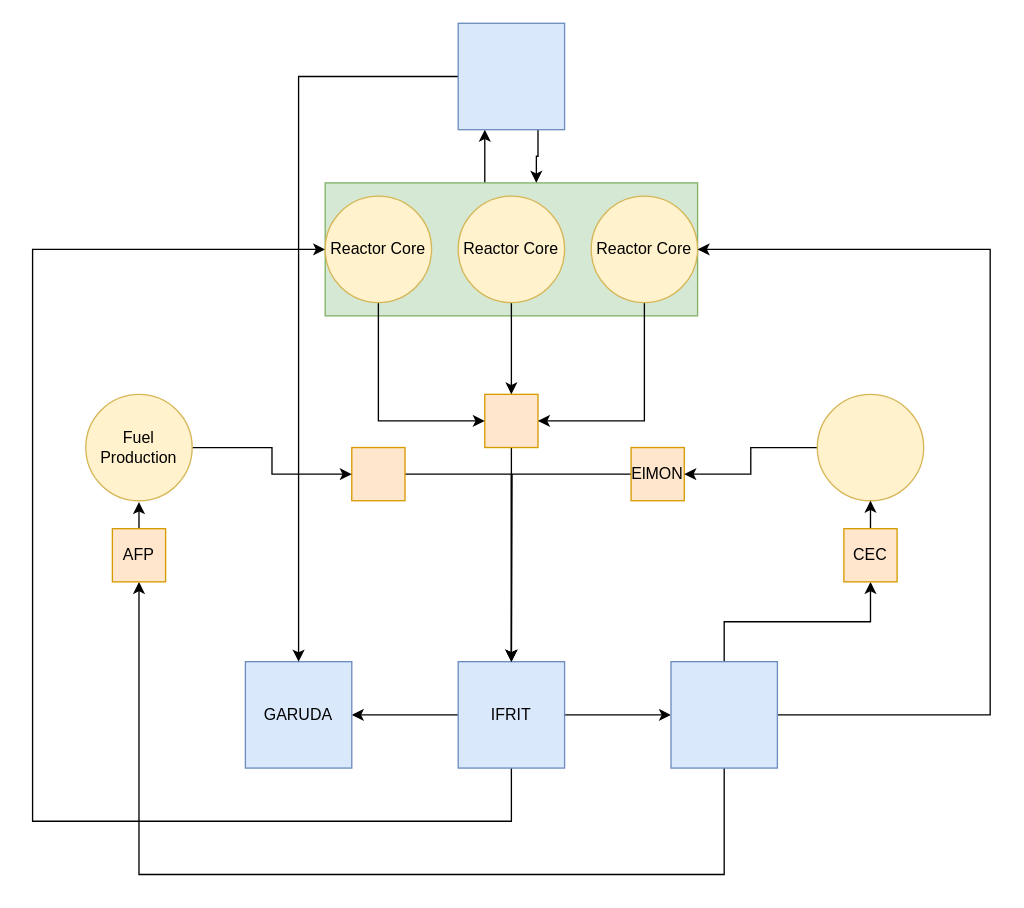
The diagram is 1024 pixels wide and 908 high, and some of its shapes have lost their labels. The shapes that lost their labels are listed below. From the top down, each one's centre as x and y in pixels, then its label:
At (x=511, y=76): "TITAN".
At (x=510, y=420): "ReMON".
At (x=870, y=447): "Electrical System".
At (x=377, y=473): "FuMON".
At (x=723, y=714): "BAHAMUT".
